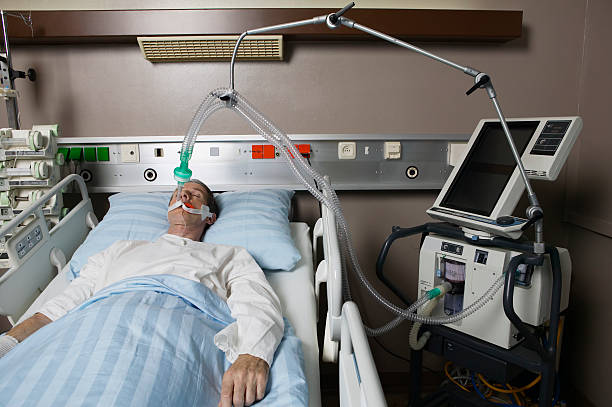bedrail: (1, 173, 98, 325), (337, 300, 389, 407), (313, 172, 341, 365)
breathing_tube: (154, 92, 505, 352)
hospital_bed: (1, 171, 390, 407)
iv_pole: (1, 8, 36, 67)
patient: (1, 179, 284, 407)
ventilator: (416, 115, 583, 406)
